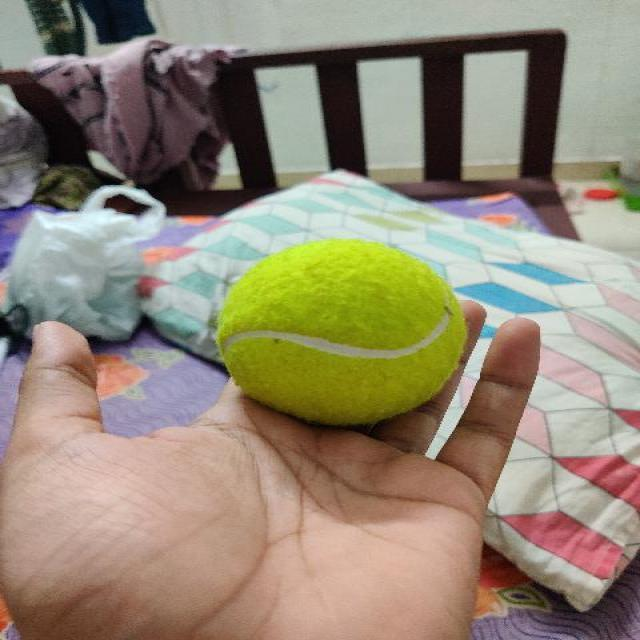tennis-ball: (214, 237, 470, 426)
